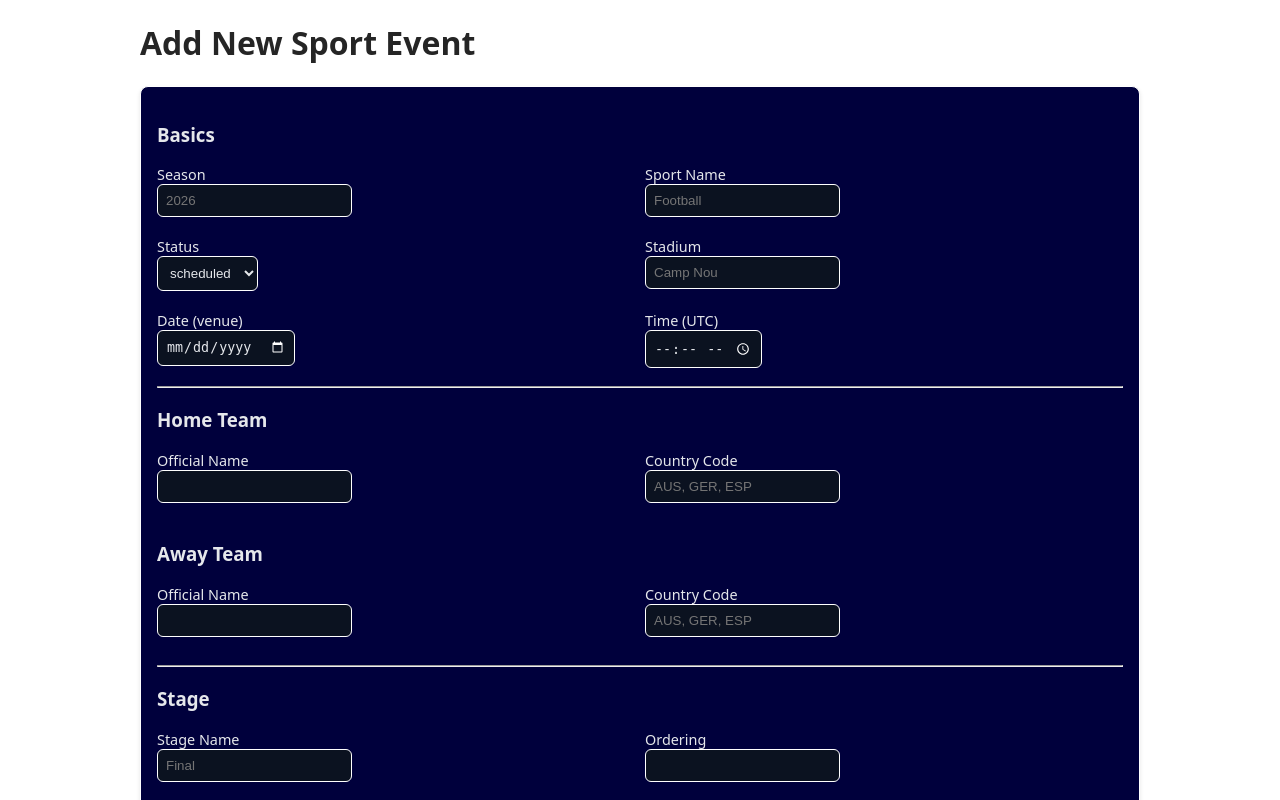
it: AddEvent › shows Result section only when status is played and date/time is in the past
The width and height of the screenshot is (1280, 800).
Expected: the field labelled "Home Goals" is not shown
Expected: the field labelled "Away Goals" is not shown
Note: Set a past date/time (with seconds for proper parsing)
Type "2025-10-30" into the date field labelled "Date (venue)".
click(226, 348); type("2025-10-30")  # box top-left (157, 330), bottom-right (295, 366)
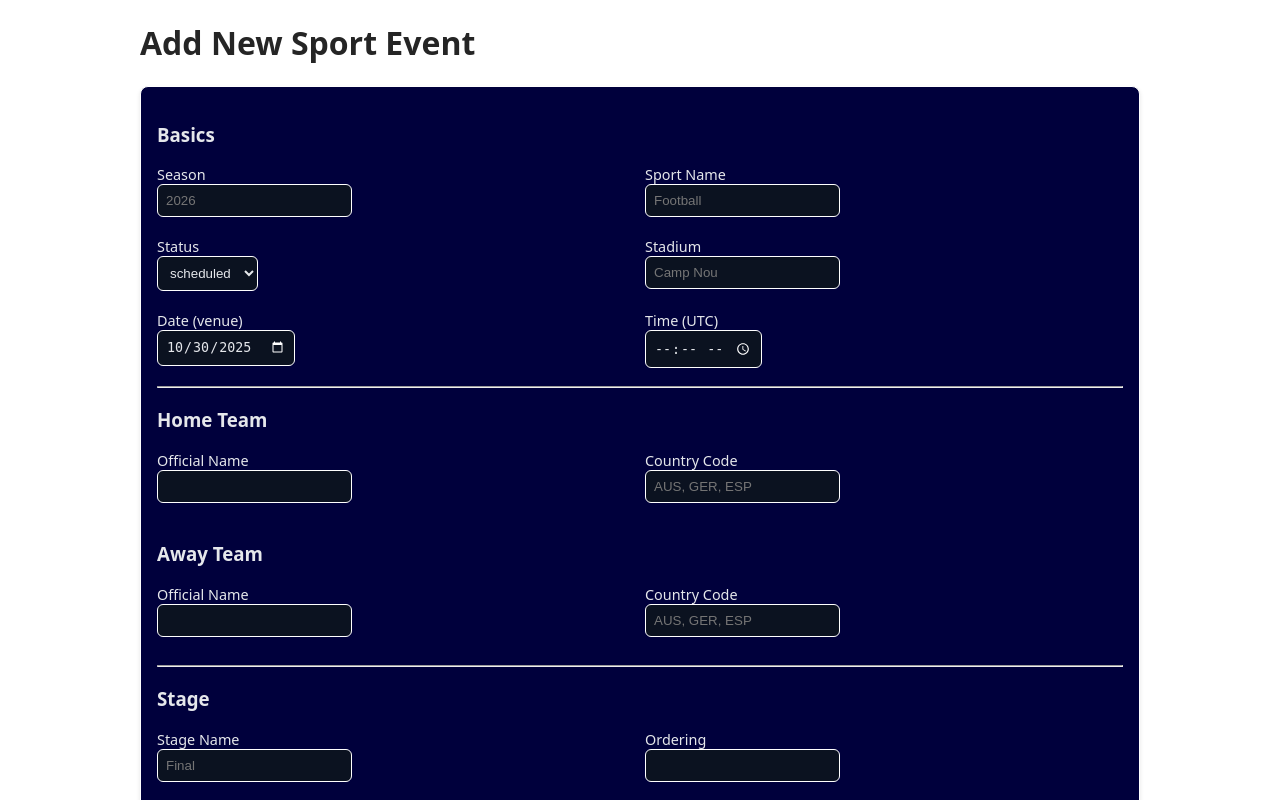
Type "10:00:00" into the time field labelled "Time (UTC)".
click(704, 349); type("10:00:00")  # box top-left (645, 330), bottom-right (762, 368)
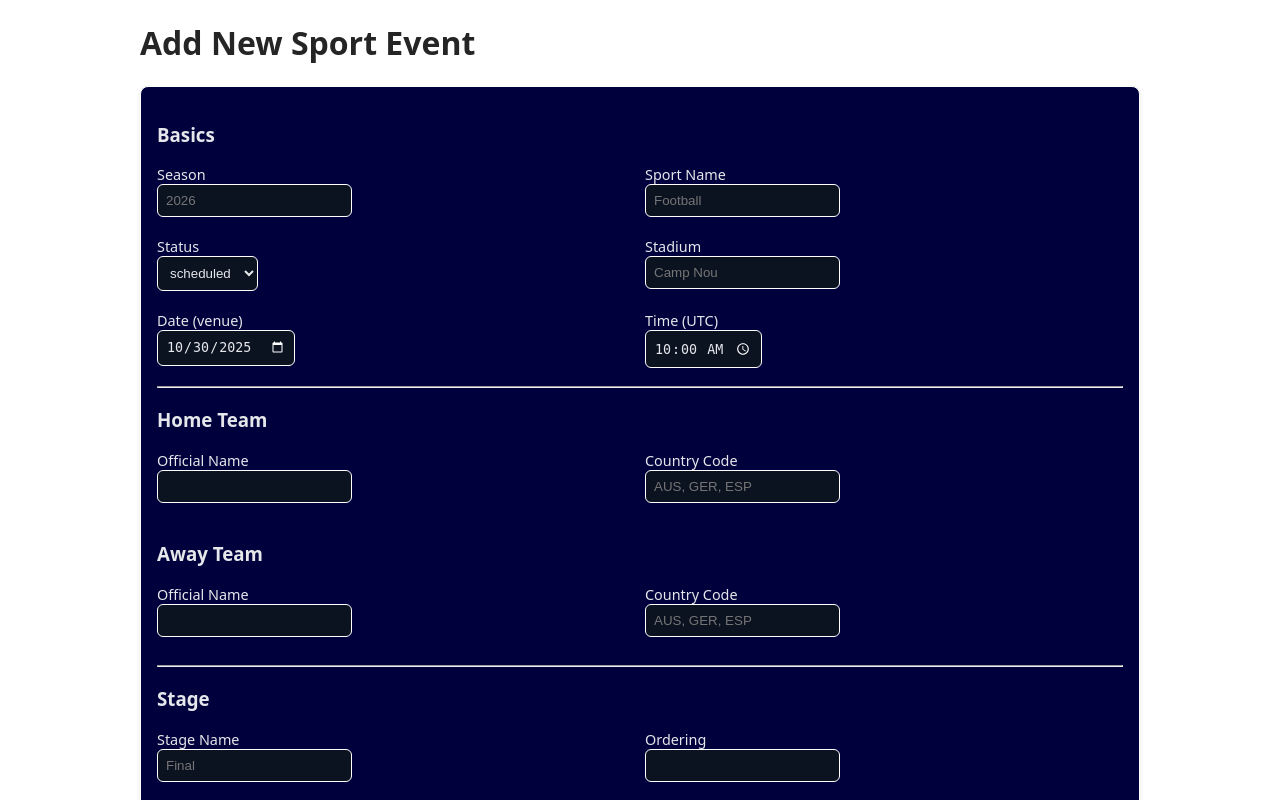
Expected: the field labelled "Home Goals" is not shown
Expected: the field labelled "Away Goals" is not shown
Note: Change status to played
Select "played" in the dropdown labelled "Status" at (208, 274), box top-left (157, 256), bottom-right (258, 291)
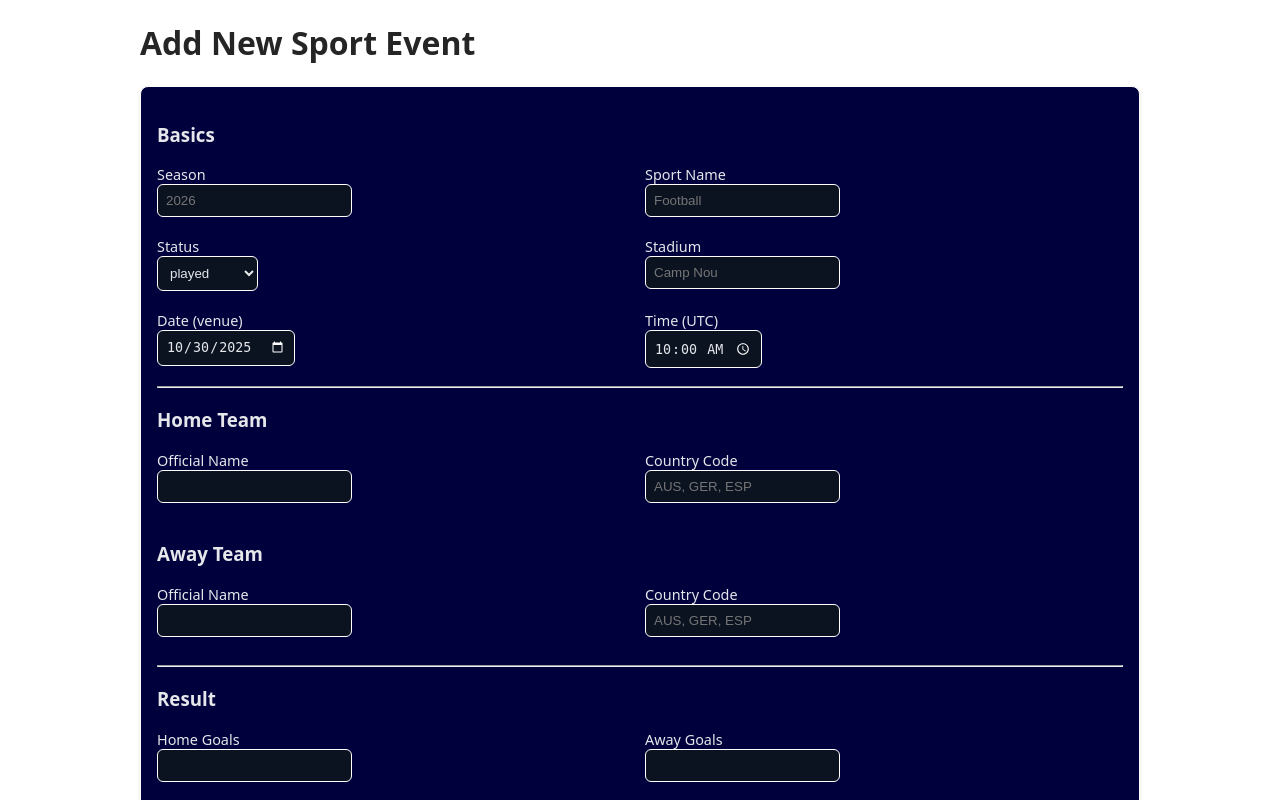
Expected: the number field labelled "Away Goals" is shown, top-left (645, 749), bottom-right (840, 782)
Result: the heading "Result" is shown at top-left (157, 686), bottom-right (216, 711)
Result: the number field labelled "Home Goals" is shown at top-left (157, 749), bottom-right (352, 782)
